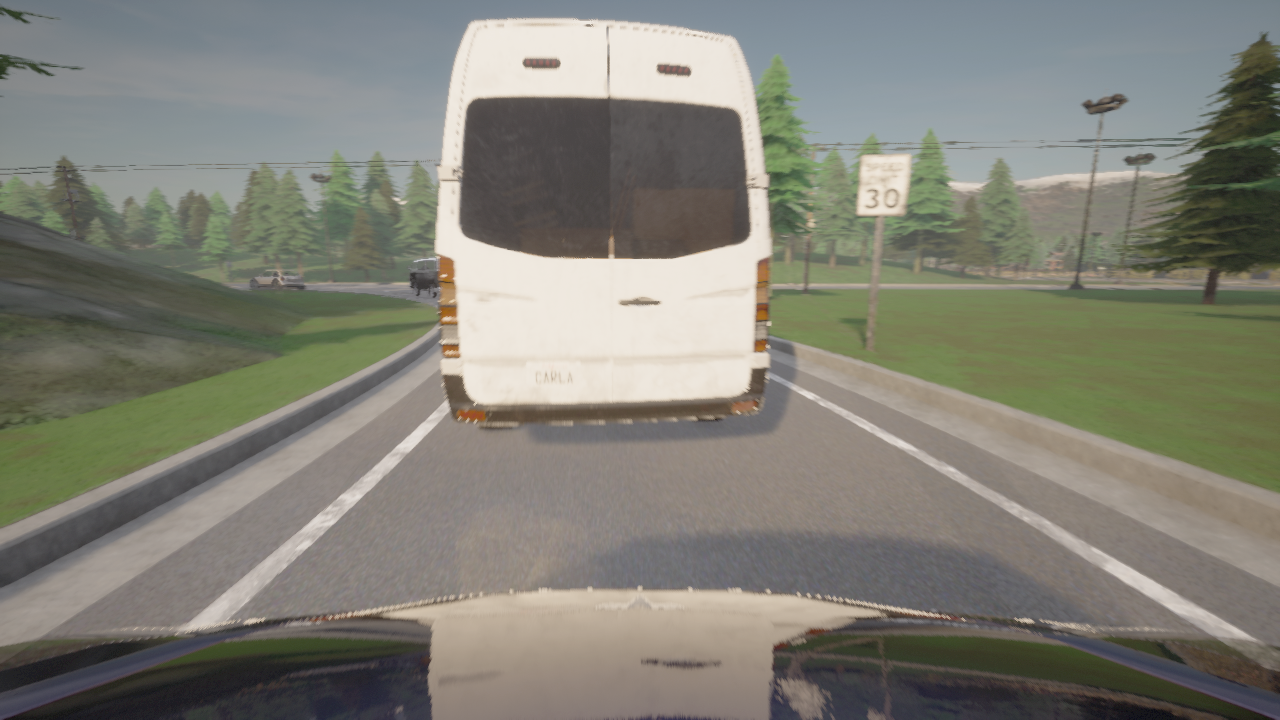cyclist: (0, 588, 1279, 719), (437, 18, 769, 429), (407, 257, 439, 297), (250, 270, 304, 289)
